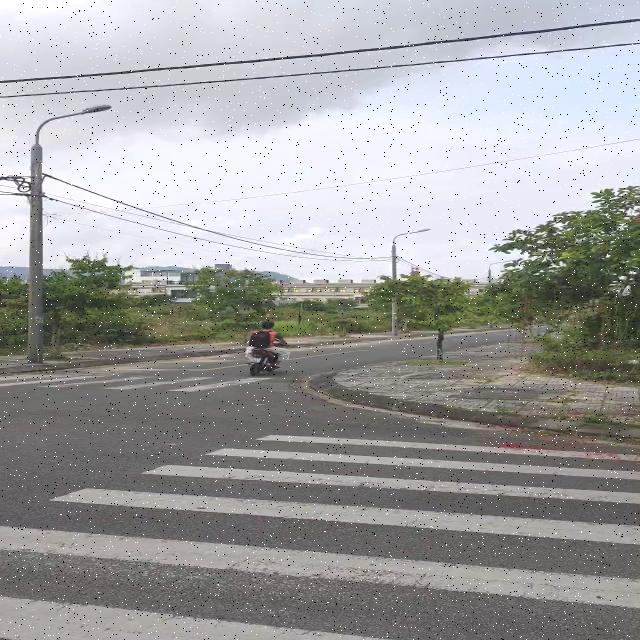no_helmet: (258, 316, 277, 336)
